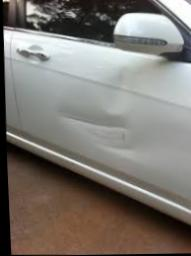Door: (21, 43, 183, 173)
